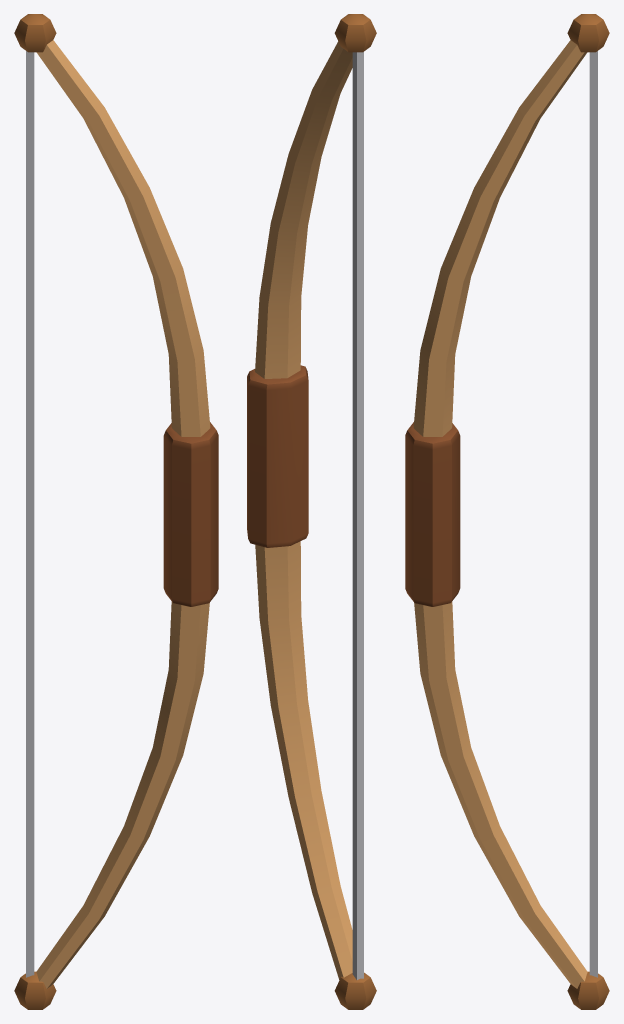
The model's file is WoodBow.fbx.
The picture shows the model from 3 angles, left to right: view 1: azimuth 90°, elevation 25°; view 2: azimuth 210°, elevation 25°; view 3: azimuth 270°, elevation 25°; orthographic projection.
Visible parts, largest first — view 1: WoodBow; view 2: WoodBow; view 3: WoodBow.
Part boxes in pixels (left/top/right/bottom): WoodBow: left=14, top=14, right=218, bottom=1009; WoodBow: left=247, top=14, right=376, bottom=1009; WoodBow: left=405, top=14, right=609, bottom=1009.
Size of the model in its own units: 0.26 by 4.16 by 0.774.
Materials: 1 (1 with a texture image).
